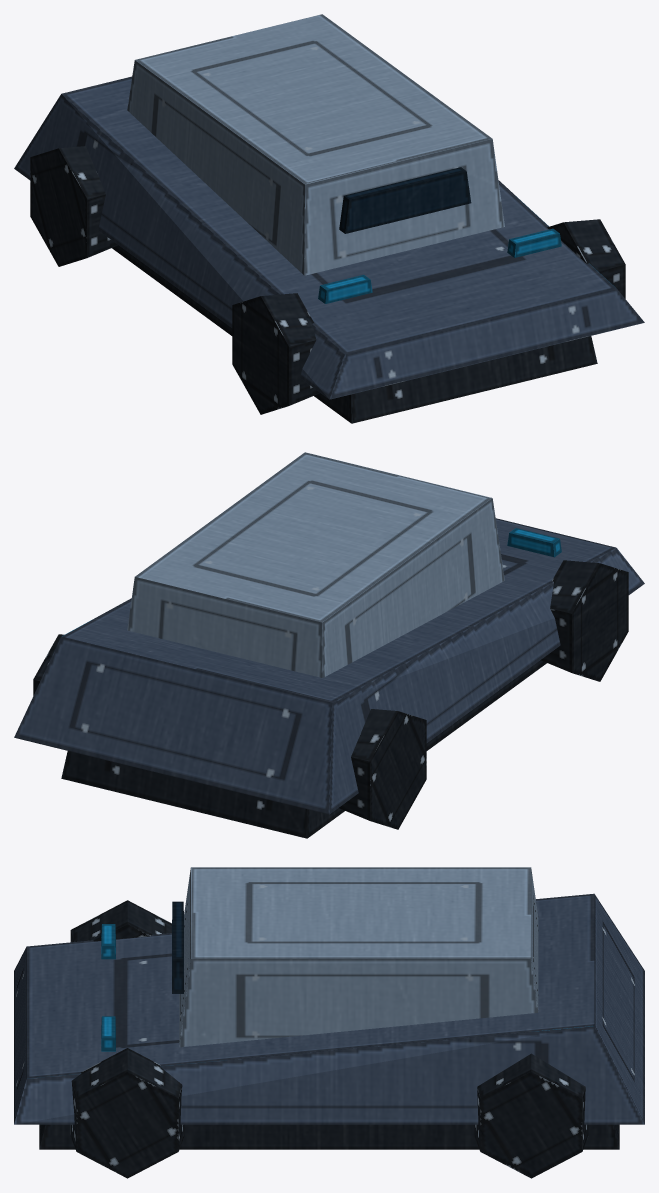
File: unit-apc.fbx
3 views of the same model, one above another, from view 1: azimuth 30°, elevation 25°; view 2: azimuth 150°, elevation 25°; view 3: azimuth 270°, elevation 25° (orthographic).
Visible parts, largest first — view 1: unit-apc; view 2: unit-apc; view 3: unit-apc.
Boxes of the visible parts, left/top/right/bottom form: unit-apc: left=14, top=14, right=644, bottom=423; unit-apc: left=14, top=452, right=644, bottom=838; unit-apc: left=14, top=867, right=644, bottom=1178.
Size of the model in its own units: 323 by 172 by 520.
1 material, 1 textured.
